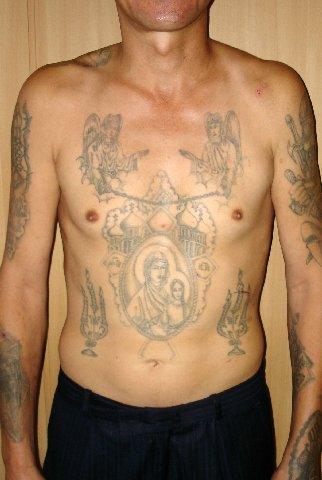tatu1_angel: (72, 106, 146, 202), (181, 108, 256, 198)
tatu2_bogorodica: (119, 240, 193, 333)
